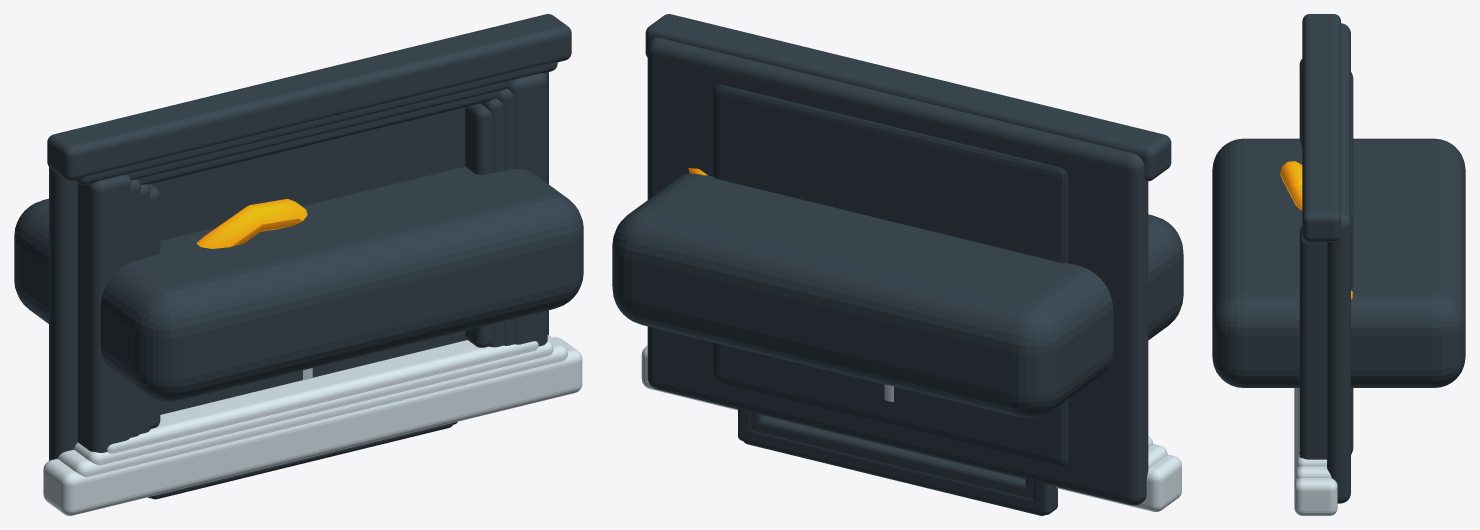
Rendered from body_20.glb.
The picture shows the model from 3 angles, left to right: view 1: azimuth 30°, elevation 25°; view 2: azimuth 150°, elevation 25°; view 3: azimuth 270°, elevation 25°; orthographic projection. The views are drawn at different scales.
Visible parts, largest first — view 1: asset_mesh__body_1025__reference_body, asset_mesh__body_1016__lower_flange, asset_mesh__body_1007__door_shell, asset_mesh__body_1016__upper_flange, asset_mesh__body_1016__left_reinforcement, asset_mesh__body_1004__upper_flange, asset_mesh__body_1016__stamped_sheet, asset_mesh__body_1015__upper_flange, asset_mesh__body_1005__upper_flange, asset_mesh__body_1016__right_reinforcement, asset_mesh__body_1015__lower_flange, asset_mesh__body_1004__lower_flange (+9 smaller); view 2: asset_mesh__body_1025__reference_body, asset_mesh__body_1016__stamped_sheet, asset_mesh__body_1007__door_shell, asset_mesh__body_1016__lower_flange, asset_mesh__body_1006__window_frame_top, asset_mesh__body_1007__window_frame_top, asset_mesh__body_1016__upper_flange, asset_mesh__body_1007__window_frame_left; view 3: asset_mesh__body_1025__reference_body, asset_mesh__body_1016__lower_flange, asset_mesh__body_1016__stamped_sheet, asset_mesh__body_1016__right_reinforcement, asset_mesh__body_1016__upper_flange, asset_mesh__body_1007__door_shell, asset_mesh__body_1039__fluid_path, asset_mesh__body_1015__upper_flange, asset_mesh__body_1005__upper_flange.
Part boxes in pixels (x1=…): asset_mesh__body_1025__reference_body: x1=14, y1=166, x2=583, y2=401; asset_mesh__body_1016__lower_flange: x1=47, y1=14, x2=571, y2=180; asset_mesh__body_1007__door_shell: x1=151, y1=107, x2=466, y2=414; asset_mesh__body_1016__upper_flange: x1=43, y1=337, x2=582, y2=515; asset_mesh__body_1016__left_reinforcement: x1=78, y1=175, x2=131, y2=452; asset_mesh__body_1004__upper_flange: x1=107, y1=340, x2=538, y2=453; asset_mesh__body_1016__stamped_sheet: x1=49, y1=72, x2=548, y2=460; asset_mesh__body_1015__upper_flange: x1=58, y1=335, x2=567, y2=477; asset_mesh__body_1005__upper_flange: x1=74, y1=340, x2=553, y2=465; asset_mesh__body_1016__right_reinforcement: x1=508, y1=73, x2=547, y2=346; asset_mesh__body_1015__lower_flange: x1=74, y1=62, x2=557, y2=185; asset_mesh__body_1004__lower_flange: x1=135, y1=89, x2=502, y2=184; asset_mesh__body_1025__reference_body: x1=612, y1=173, x2=1183, y2=418; asset_mesh__body_1016__stamped_sheet: x1=647, y1=37, x2=1148, y2=505; asset_mesh__body_1007__door_shell: x1=713, y1=84, x2=1067, y2=466; asset_mesh__body_1016__lower_flange: x1=645, y1=14, x2=1171, y2=181; asset_mesh__body_1006__window_frame_top: x1=753, y1=416, x2=1031, y2=498; asset_mesh__body_1007__window_frame_top: x1=743, y1=430, x2=1044, y2=515; asset_mesh__body_1016__upper_flange: x1=641, y1=346, x2=1181, y2=511; asset_mesh__body_1007__window_frame_left: x1=1033, y1=480, x2=1057, y2=514; asset_mesh__body_1025__reference_body: x1=1212, y1=138, x2=1465, y2=387; asset_mesh__body_1016__lower_flange: x1=1302, y1=14, x2=1340, y2=241; asset_mesh__body_1016__stamped_sheet: x1=1327, y1=23, x2=1350, y2=503; asset_mesh__body_1016__right_reinforcement: x1=1299, y1=226, x2=1326, y2=459; asset_mesh__body_1016__upper_flange: x1=1294, y1=388, x2=1337, y2=515; asset_mesh__body_1007__door_shell: x1=1351, y1=72, x2=1353, y2=454; asset_mesh__body_1039__fluid_path: x1=1280, y1=161, x2=1352, y2=299; asset_mesh__body_1015__upper_flange: x1=1295, y1=388, x2=1331, y2=478; asset_mesh__body_1005__upper_flange: x1=1296, y1=388, x2=1326, y2=466.
Bounding box in the file's own units: 1.72 × 1.23 × 0.882.
